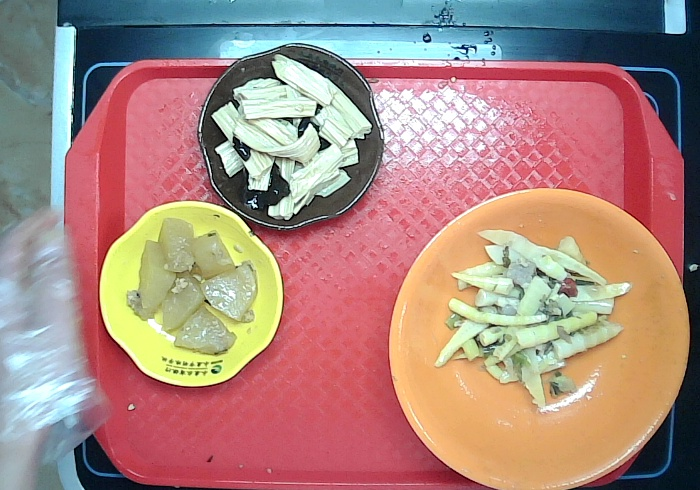YKMZ-Huang_Se_Ao_Bian_Wan: (98, 201, 285, 392)
YKMZ-Ju_Se_Tang_Wan: (387, 187, 691, 490)
YKMZ-Ka_Fei_Ao_Bian_Wan: (200, 43, 384, 231)
